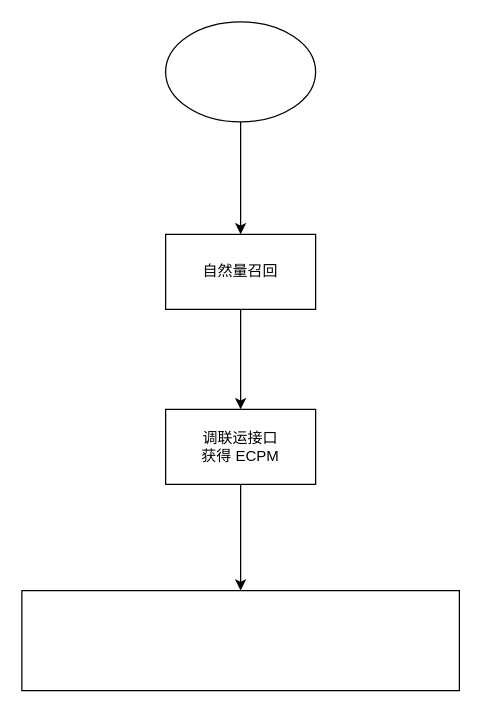
Image size: 481x713. Some labels were removed from this diagram. Each missing label, with the centre of its shape:
"开始" belongs at pixel 240 71.
"计算自然得分natureCal对于自然联运考虑" belongs at pixel 240 640.
